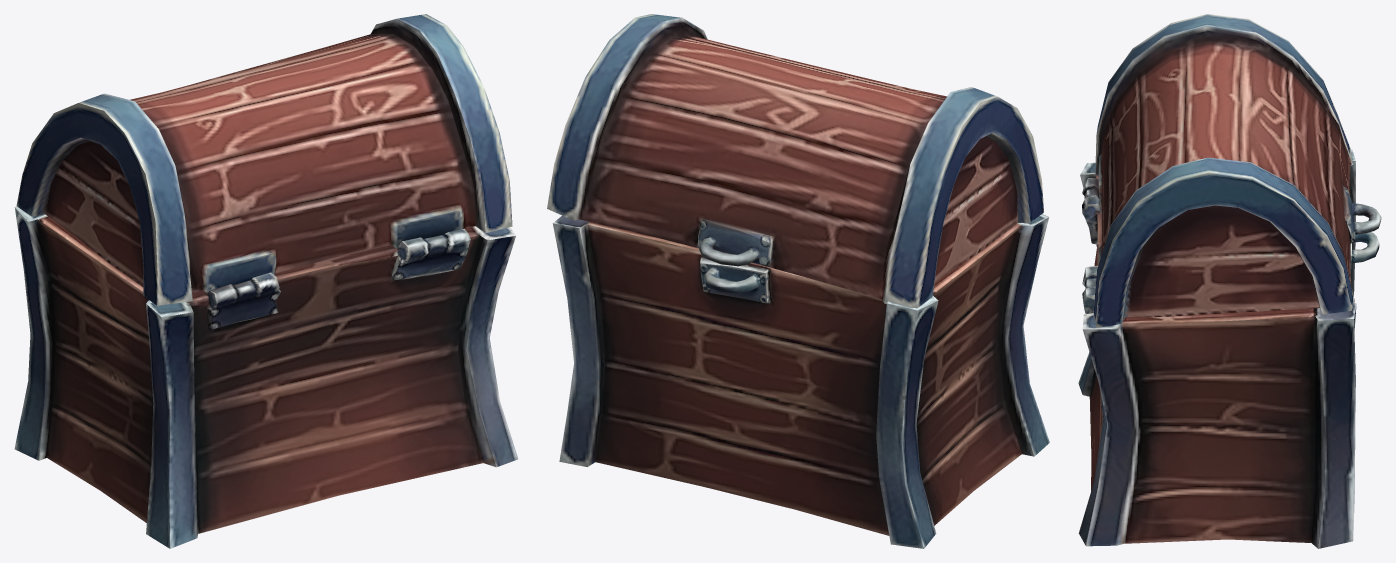
Rendered from Gold Chest.FBX.
The picture shows the model from 3 angles, left to right: view 1: azimuth 30°, elevation 25°; view 2: azimuth 150°, elevation 25°; view 3: azimuth 270°, elevation 25°; orthographic projection. The views are drawn at different scales.
Parts seen in each view (by area): view 1: Chest Base, Chest Door; view 2: Chest Base, Chest Door; view 3: Chest Door, Chest Base.
Part boxes in pixels (box(x1,y1,x2,y2)): Chest Base: box(14, 206, 518, 548); Chest Door: box(16, 14, 512, 305); Chest Base: box(552, 214, 1049, 548); Chest Door: box(547, 14, 1043, 308); Chest Door: box(1093, 14, 1381, 327); Chest Base: box(1078, 149, 1379, 548).
Size of the model in its own units: 88.98 by 65.65 by 89.26.
1 material, 1 textured.
